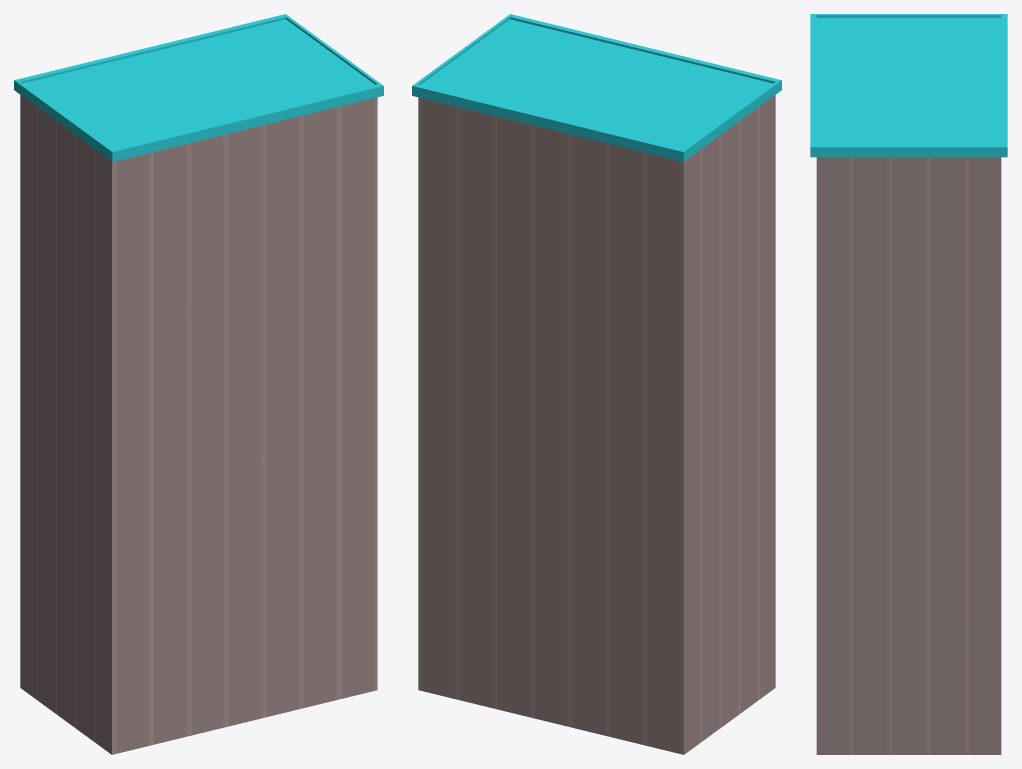
File: Building 16 .fbx
The picture shows the model from 3 angles, left to right: view 1: azimuth 30°, elevation 25°; view 2: azimuth 150°, elevation 25°; view 3: azimuth 270°, elevation 25°; orthographic projection.
Visible parts, largest first — view 1: Building 16; view 2: Building 16; view 3: Building 16.
Part boxes in pixels (<box>): Building 16: <box>14,14,383,754</box>; Building 16: <box>412,14,781,754</box>; Building 16: <box>810,14,1007,754</box>.
Bounding box in the file's own units: 4707 × 10037 × 2949.
